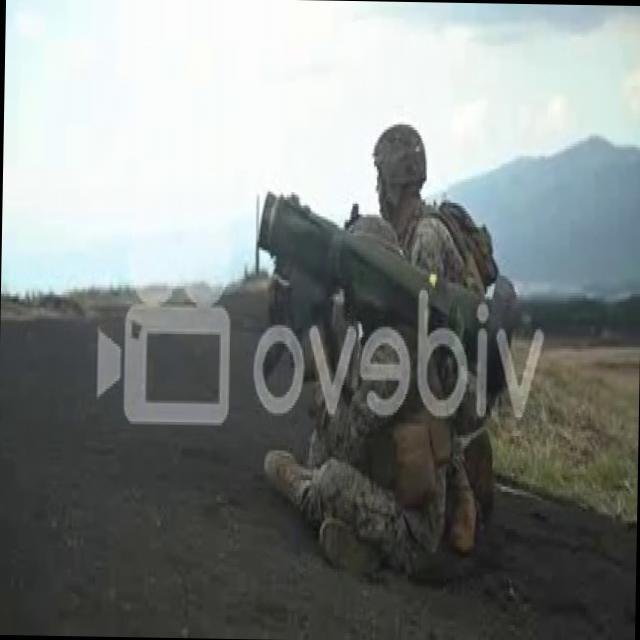rocket: (260, 179, 518, 391)
